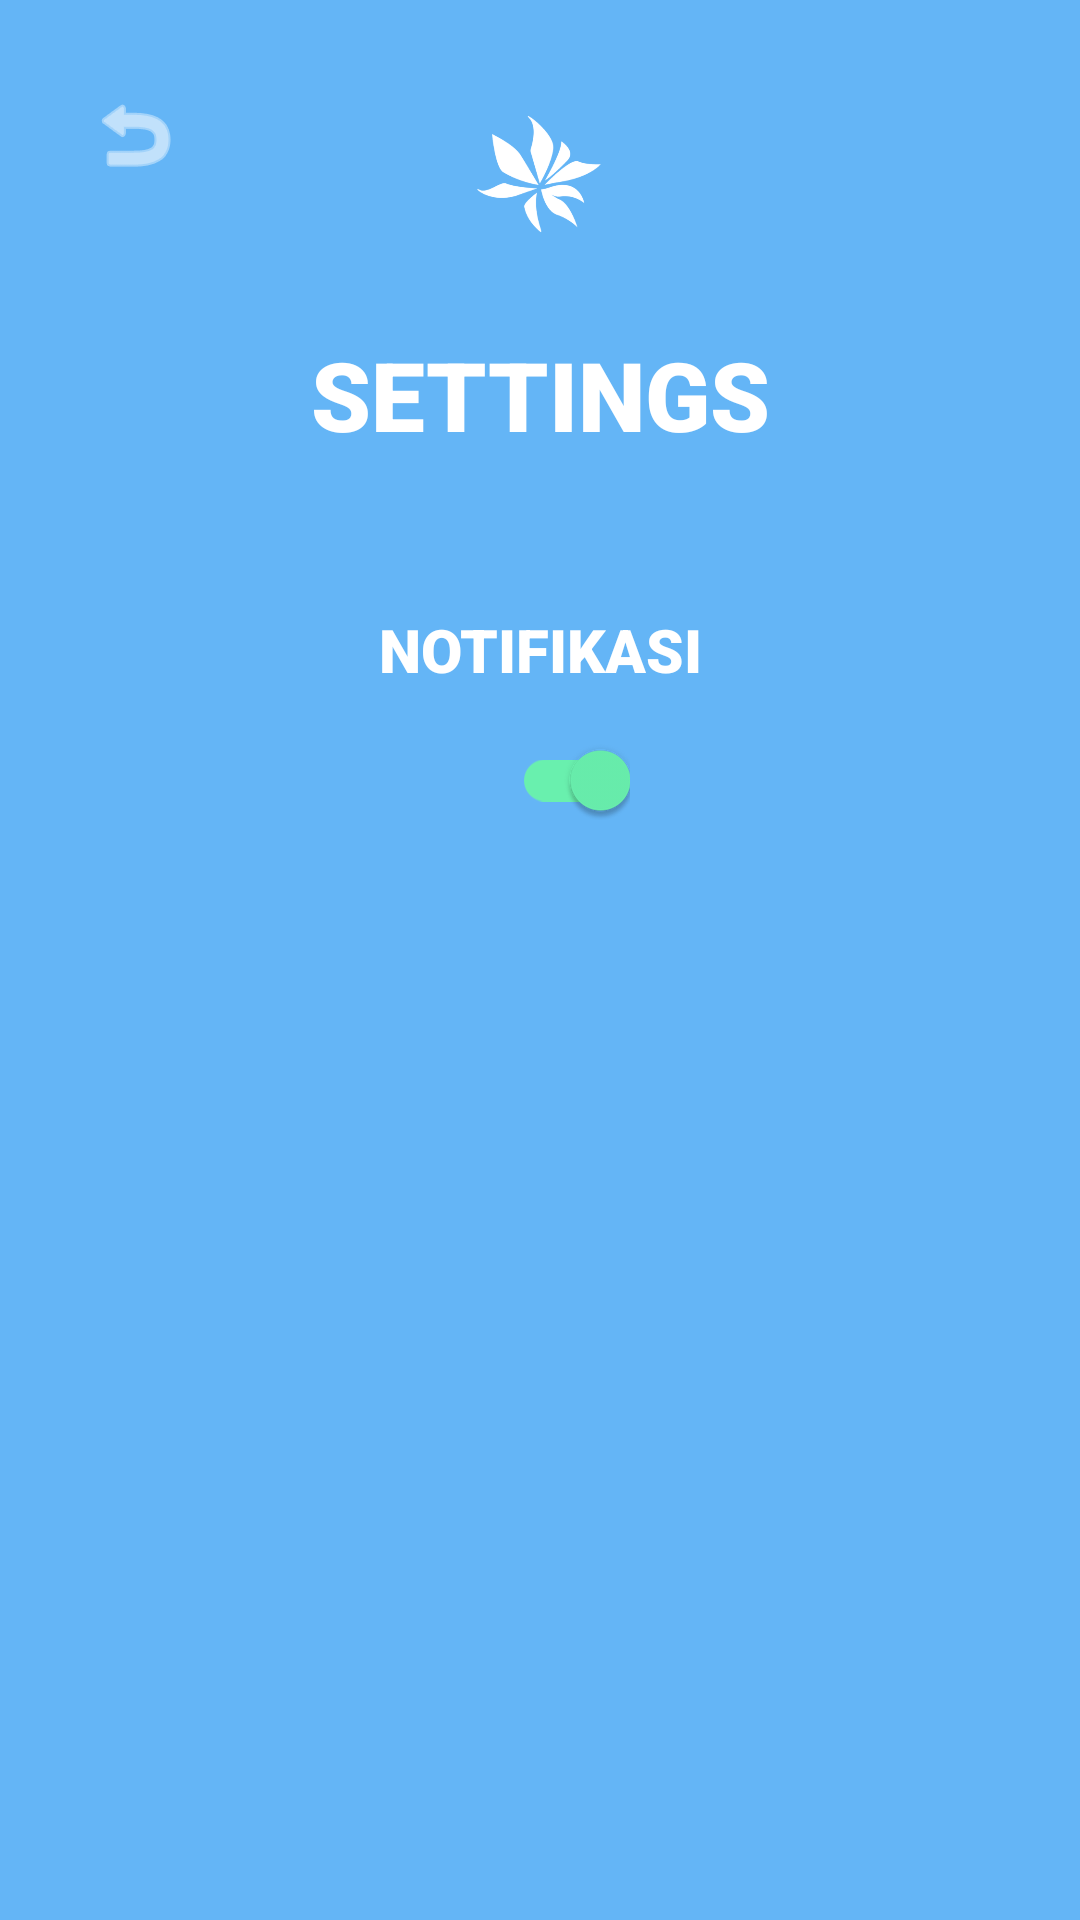

Named icons in this screenshot (1080 x 1920) and their bounding boxes, [x1, y1, x2, y2]:
revert: [102, 105, 171, 167]
